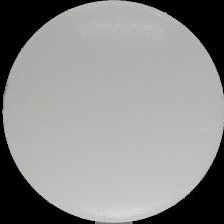60429-258: (0, 0, 224, 224)
